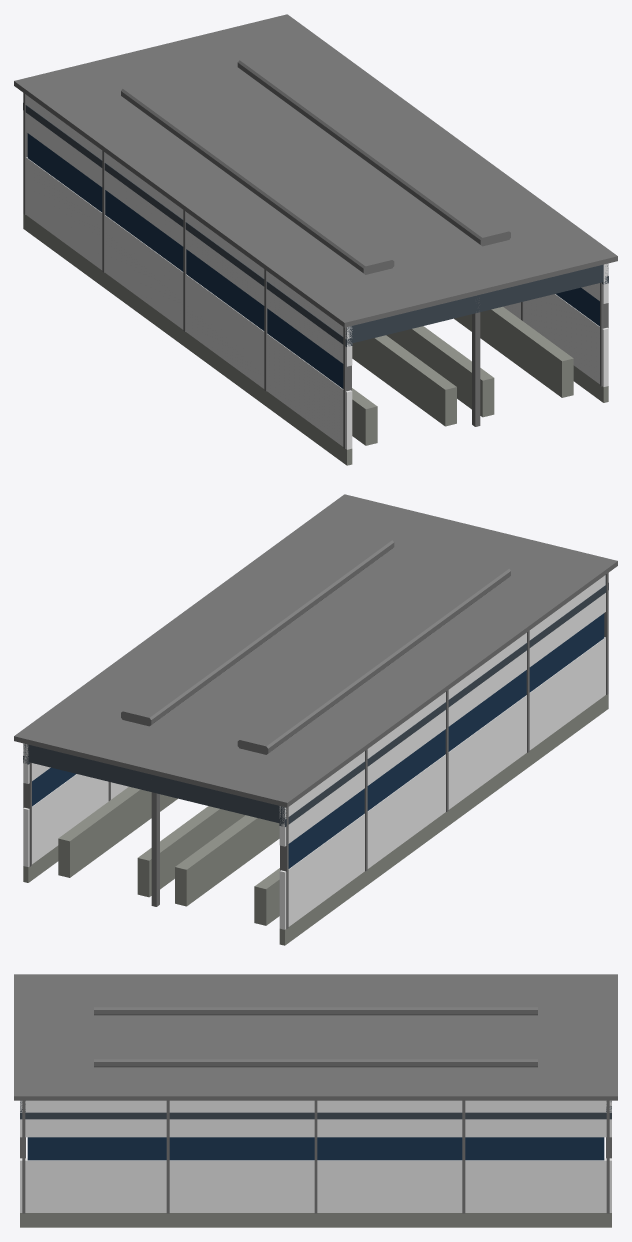
Rendered from yard_shed.fbx.
The picture shows the model from 3 angles, top to bottom: view 1: azimuth 30°, elevation 25°; view 2: azimuth 150°, elevation 25°; view 3: azimuth 270°, elevation 25°; orthographic projection. The views are drawn at different scales.
Visible parts, largest first — view 1: a1064/0/yard_shed; view 2: a1064/0/yard_shed; view 3: a1064/0/yard_shed.
Boxes of the visible parts, x1,y1,x2,y2 form: a1064/0/yard_shed: (14,14,617,465); a1064/0/yard_shed: (14,494,617,945); a1064/0/yard_shed: (14,974,617,1227).
Size of the model in its own units: 11.7 by 6.35 by 24.5.
